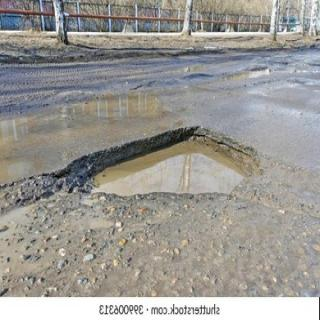pothole: (55, 126, 262, 196)
